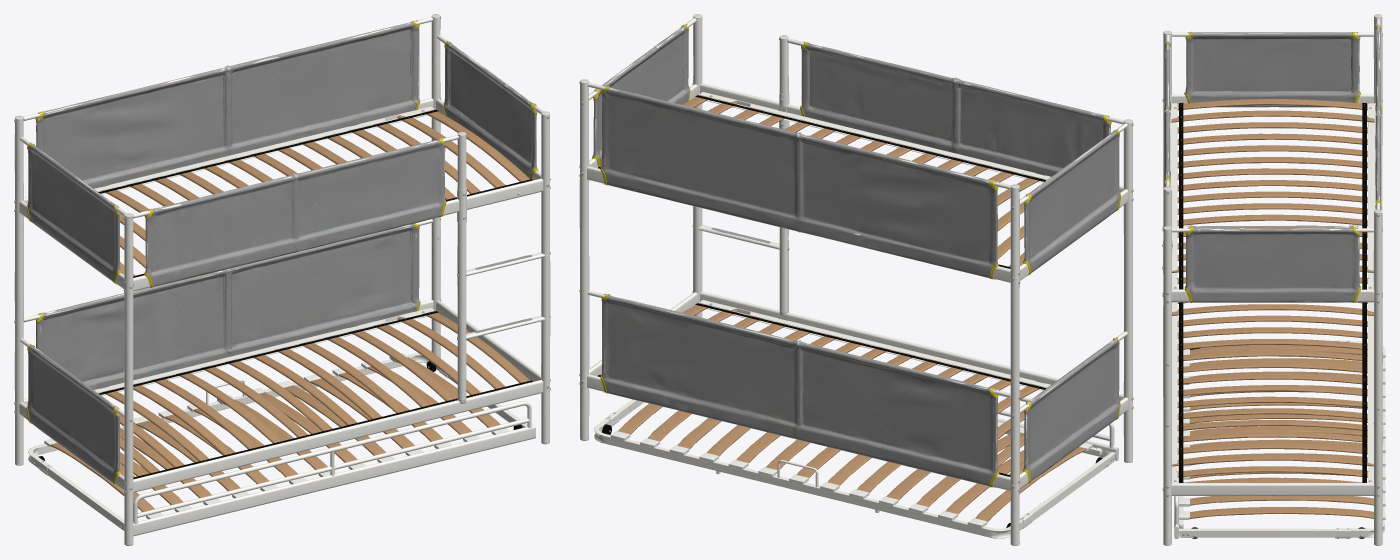
File: 66 - VITVAL - 上下舖床框附活動子床, 白色淺灰色, 90x200 公分 IKEA 線上購物.glb
3 renders of one model, left to right at view 1: azimuth 30°, elevation 25°; view 2: azimuth 150°, elevation 25°; view 3: azimuth 270°, elevation 25°, orthographic. The views are drawn at different scales.
Parts seen in each view (by area): view 1: 10448325-VITVAL001; view 2: 10448325-VITVAL001; view 3: 10448325-VITVAL001.
Part boxes in pixels (left/top/right/bottom): 10448325-VITVAL001: left=14, top=14, right=550, bottom=545; 10448325-VITVAL001: left=579, top=14, right=1133, bottom=545; 10448325-VITVAL001: left=1162, top=14, right=1385, bottom=545.
Bounding box in the file's own units: 2.08 × 1.62 × 0.9813.
Materials: 1 (1 with a texture image).
